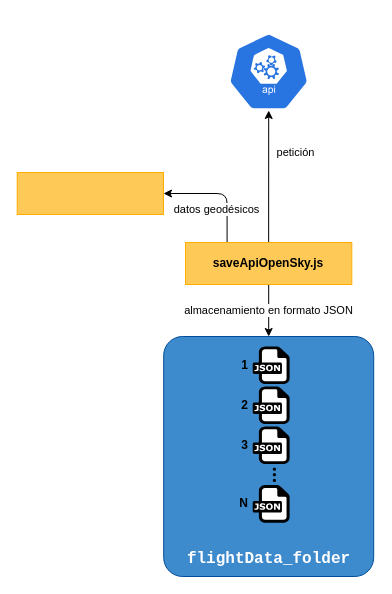
Image size: 392x594. Some labels were removed from this diagram. Each missing label, with the box of its shape:
configurationModel.js: (16, 172, 164, 214)
OpenSky REST API: (213, 32, 324, 110)
